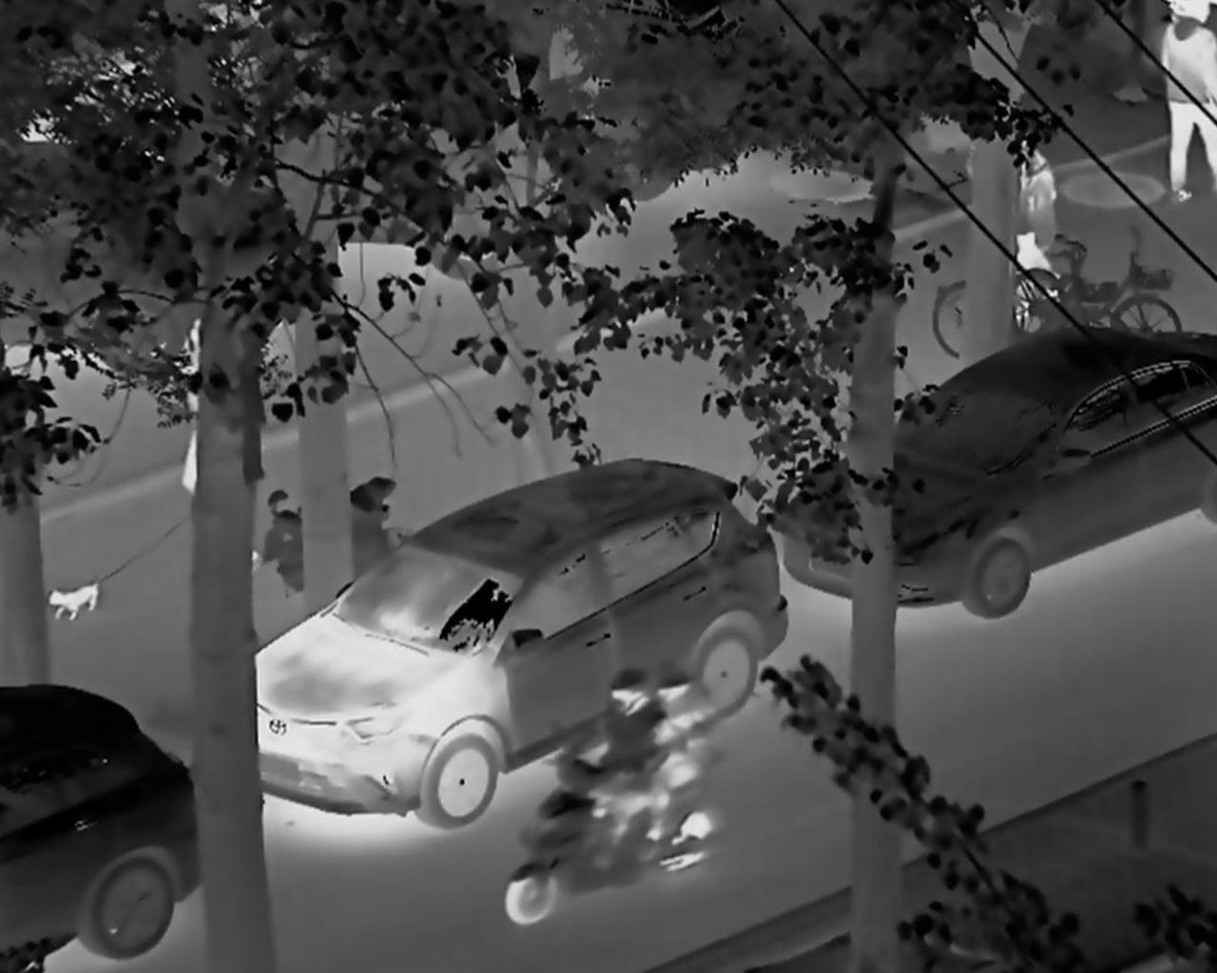person: (561, 662, 678, 873), (995, 135, 1077, 323)
